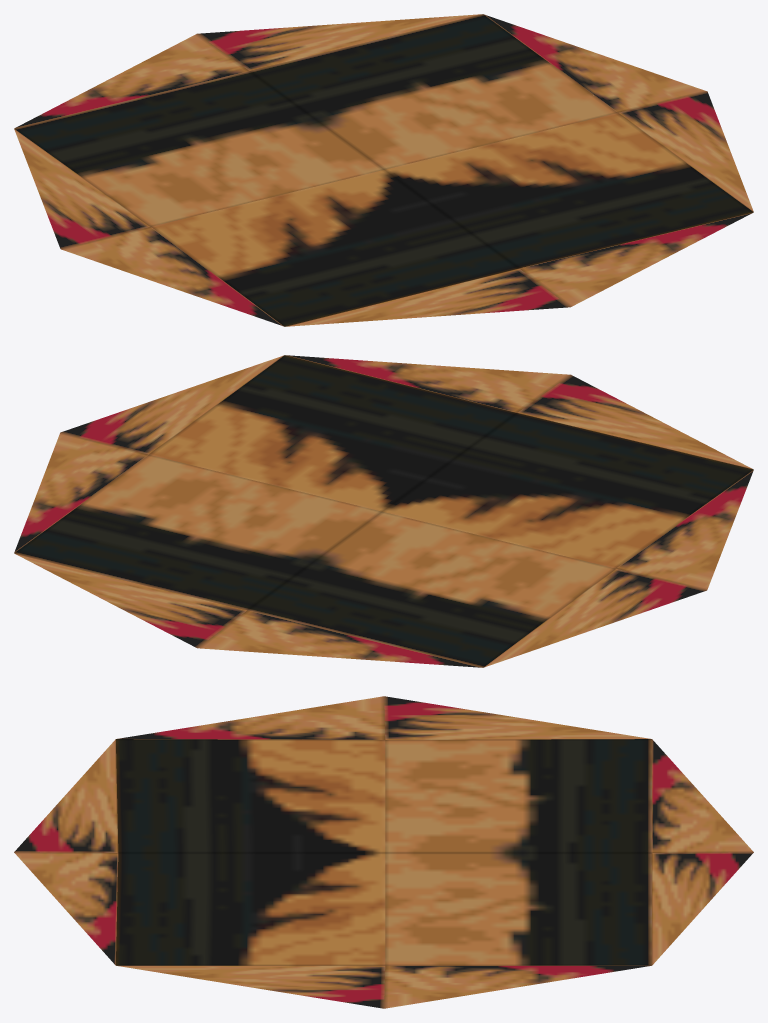
3 renders of one model, top to bottom at view 1: azimuth 30°, elevation 25°; view 2: azimuth 150°, elevation 25°; view 3: azimuth 270°, elevation 25°, orthographic.
Parts seen in each view (by area): view 1: T1L1M001_22; view 2: T1L1M001_22; view 3: T1L1M001_22.
Boxes of the visible parts, box(x1,y1,x2,y2) form: T1L1M001_22: box(14, 14, 753, 326); T1L1M001_22: box(14, 355, 753, 667); T1L1M001_22: box(14, 696, 753, 1008).
Bounding box in the file's own units: 2 × 0 × 2.
